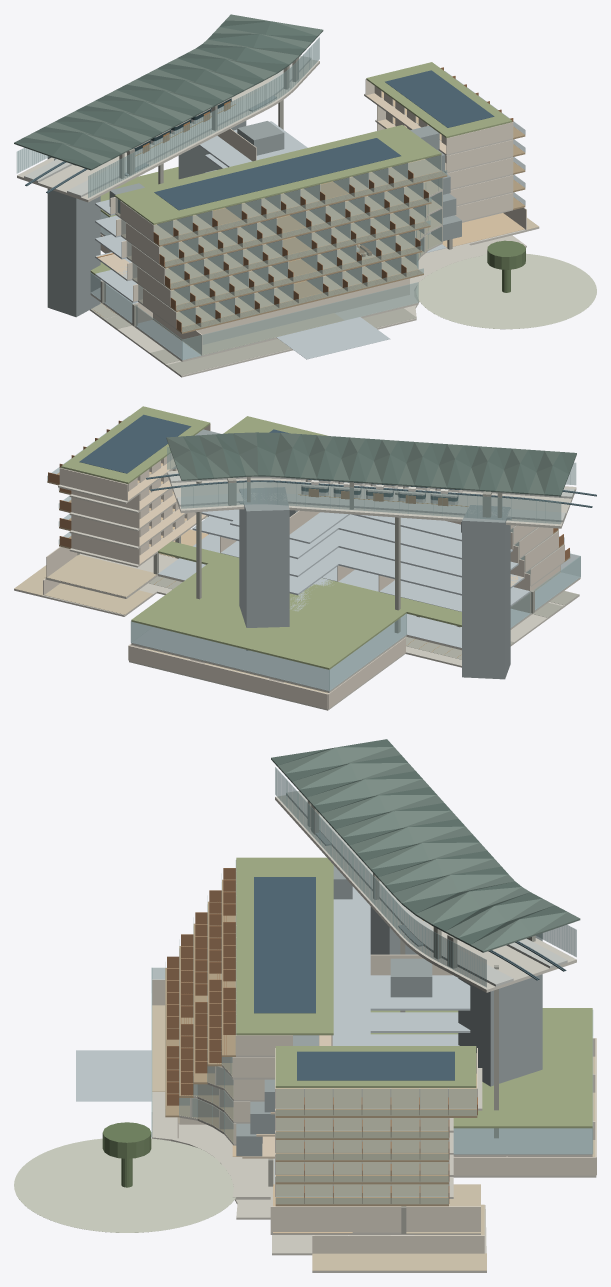
3 views of the same model, one above another, from view 1: azimuth 30°, elevation 25°; view 2: azimuth 150°, elevation 25°; view 3: azimuth 270°, elevation 25° (orthographic). The views are drawn at different scales.
Parts seen in each view (by area): view 1: RF-S_roof, 1F_site, RF-H_garden, RF-H_pv, 1F_glass, 6F_glass, 5F_glass, R5_glass, 4F_glass, RF-S_roof_alt, 3F_glass, 2F_glass (+43 smaller); view 2: 2F_garden, RF-S_roof, R5_glass, RF-S_roof_alt, 1F_public, 1F_glass, 6F_core, R5_slab, B1_wall, 3F_public, R5_platform, 4F_public (+34 smaller); view 3: RF-S_roof_alt, 1F_site, RF-H_pv, RF-H_garden, 2F_garden, 6F_public, 1F_public, RF-S_roof, R5_glass, B1_wall, 1F_wall, 6F_glass (+40 smaller).
Part boxes in pixels (left/top/right/bottom): RF-S_roof: left=14, top=20, right=317, bottom=170; 1F_site: left=416, top=253, right=596, bottom=329; RF-H_garden: left=114, top=62, right=512, bottom=224; RF-H_pv: left=154, top=70, right=494, bottom=210; 1F_glass: left=90, top=212, right=418, bottom=360; 6F_glass: left=115, top=71, right=525, bottom=244; 5F_glass: left=121, top=139, right=525, bottom=266; R5_glass: left=16, top=37, right=319, bottom=197; 4F_glass: left=127, top=157, right=525, bottom=288; RF-S_roof_alt: left=24, top=14, right=323, bottom=164; 3F_glass: left=132, top=175, right=525, bottom=310; 2F_glass: left=138, top=192, right=525, bottom=332; 2F_garden: left=131, top=541, right=461, bottom=669; RF-S_roof: left=183, top=432, right=576, bottom=496; R5_glass: left=167, top=447, right=576, bottom=524; RF-S_roof_alt: left=166, top=432, right=560, bottom=495; 1F_public: left=131, top=558, right=579, bottom=690; 1F_glass: left=130, top=553, right=580, bottom=691; 6F_core: left=195, top=429, right=510, bottom=567; R5_slab: left=167, top=470, right=576, bottom=528; B1_wall: left=43, top=578, right=405, bottom=709; 3F_public: left=192, top=516, right=524, bottom=595; R5_platform: left=168, top=473, right=574, bottom=522; 4F_public: left=195, top=509, right=518, bottom=577; RF-S_roof_alt: left=278, top=747, right=580, bottom=952; 1F_site: left=14, top=1138, right=235, bottom=1232; RF-H_pv: left=254, top=877, right=454, bottom=1080; RF-H_garden: left=236, top=857, right=476, bottom=1087; 2F_garden: left=370, top=1008, right=592, bottom=1128; 6F_public: left=332, top=886, right=470, bottom=1045; 1F_public: left=76, top=1050, right=592, bottom=1184; RF-S_roof: left=271, top=739, right=567, bottom=945; R5_glass: left=275, top=767, right=576, bottom=987; B1_wall: left=312, top=1038, right=596, bottom=1253; 1F_wall: left=152, top=979, right=480, bottom=1232; 6F_glass: left=221, top=860, right=477, bottom=1115.
Bounding box in the file's own units: 103 × 37.52 × 82.5.
